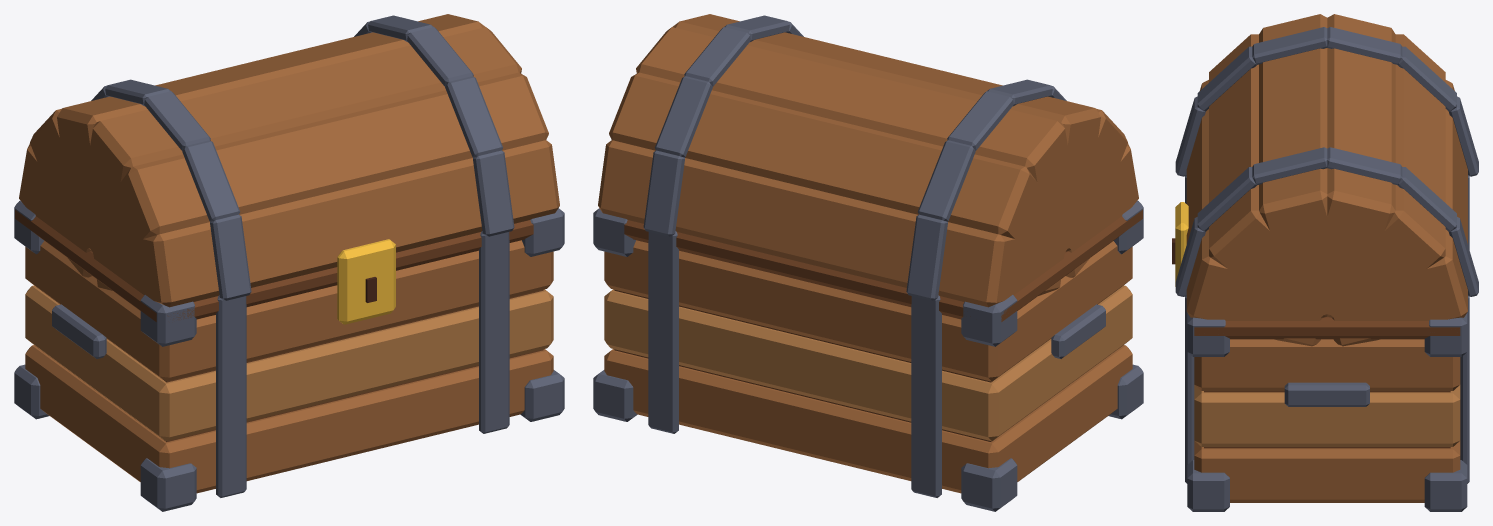
Rendered from cassa.glb.
3 renders of one model, left to right at view 1: azimuth 30°, elevation 25°; view 2: azimuth 150°, elevation 25°; view 3: azimuth 270°, elevation 25°, orthographic. The views are drawn at different scales.
Visible parts, largest first — view 1: cassa2; view 2: cassa2; view 3: cassa2.
Boxes of the visible parts, x1,y1,x2,y2 form: cassa2: (14, 14, 564, 511); cassa2: (593, 14, 1143, 511); cassa2: (1172, 14, 1478, 511).
Size of the model in its own units: 0.99 by 0.7643 by 0.6463.
